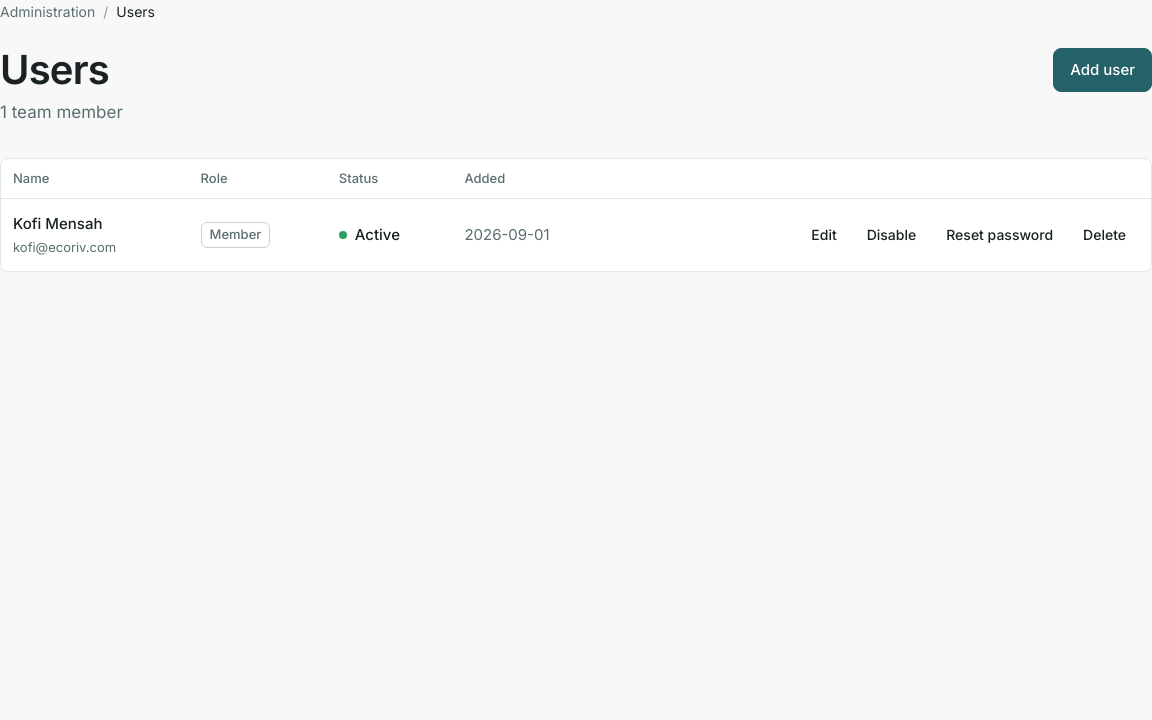
it: a refused reset shows the server sentence
The image size is (1152, 720).
Click the button "Reset password" at (1000, 235), box [933,217,1066,253]
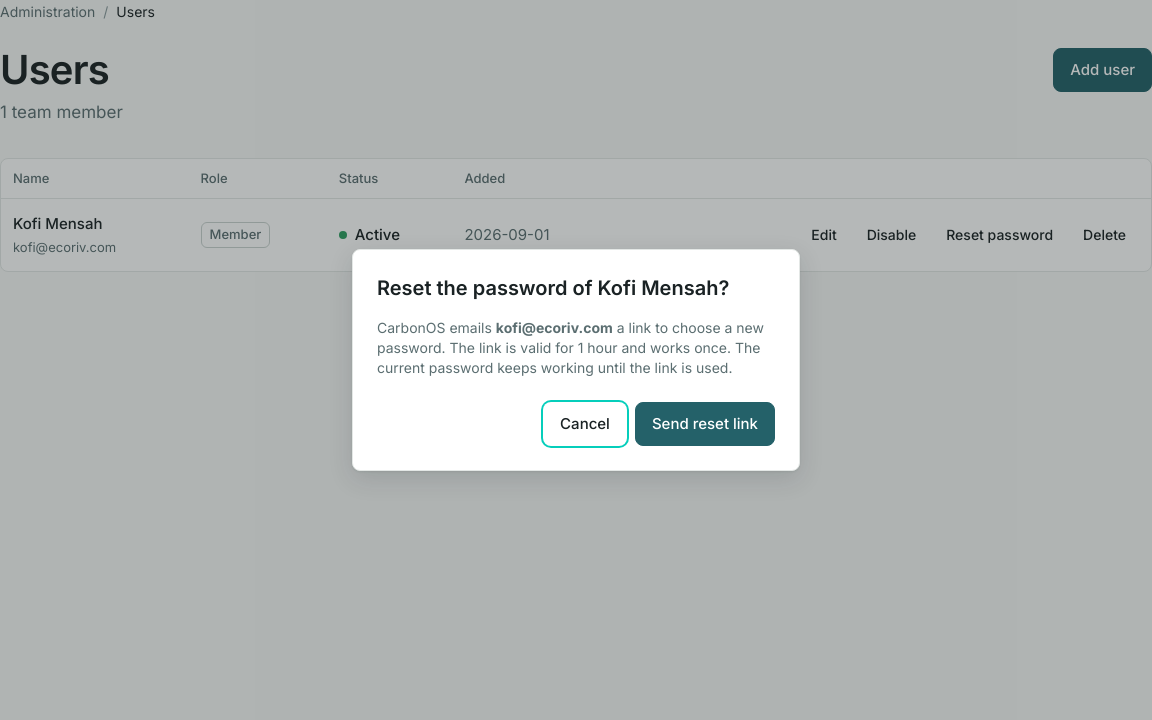
Click the button "Send reset link" at (705, 424), box [635,402,775,446]
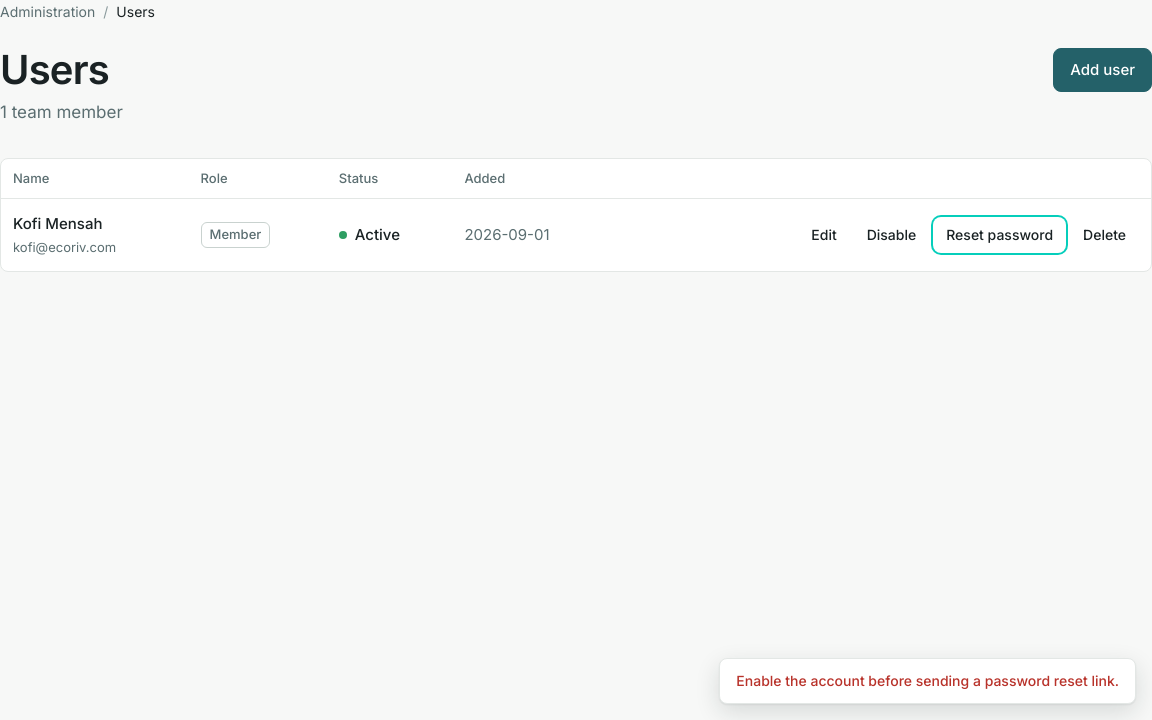
Check: the text "Enable the account before sending a password reset link." is shown, box [719,658,1136,704]
